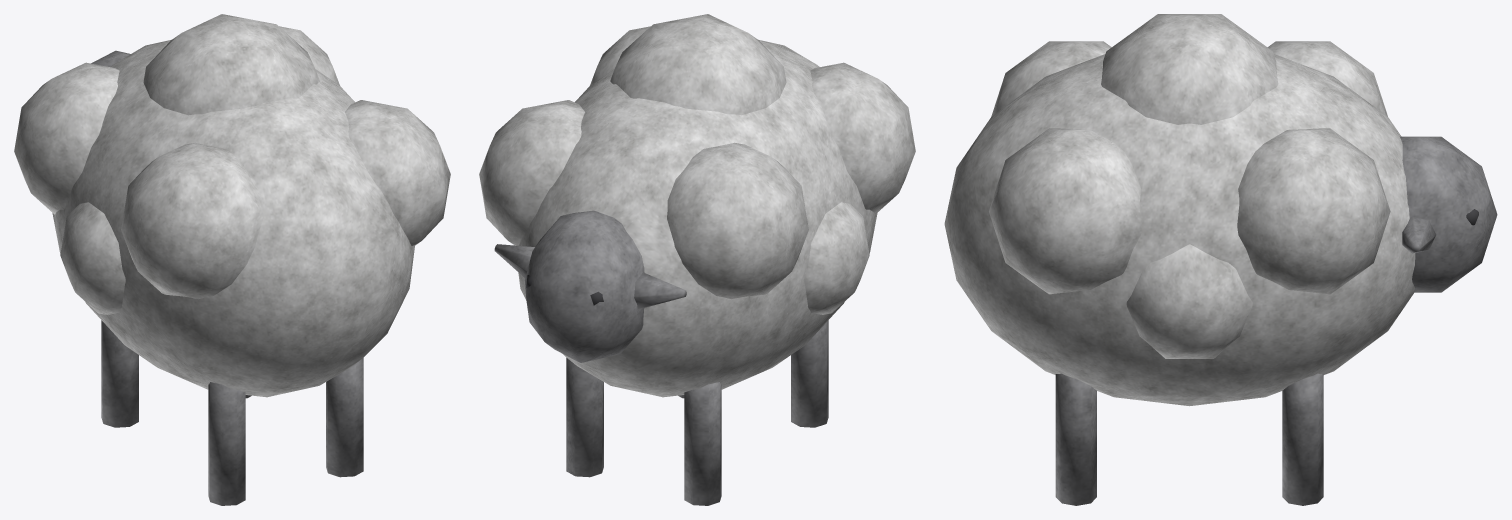
Rendered from mob_domba_idle.obj.
The picture shows the model from 3 angles, left to right: view 1: azimuth 30°, elevation 25°; view 2: azimuth 150°, elevation 25°; view 3: azimuth 270°, elevation 25°; orthographic projection. The views are drawn at different scales.
Visible parts, largest first — view 1: mob_domba_idle; view 2: mob_domba_idle; view 3: mob_domba_idle.
Part boxes in pixels (<box>): mob_domba_idle: <box>14,14,450,505</box>; mob_domba_idle: <box>479,14,915,505</box>; mob_domba_idle: <box>944,14,1497,505</box>.
Size of the model in its own units: 0.8371 by 1.05 by 1.17.
1 material, 1 textured.
